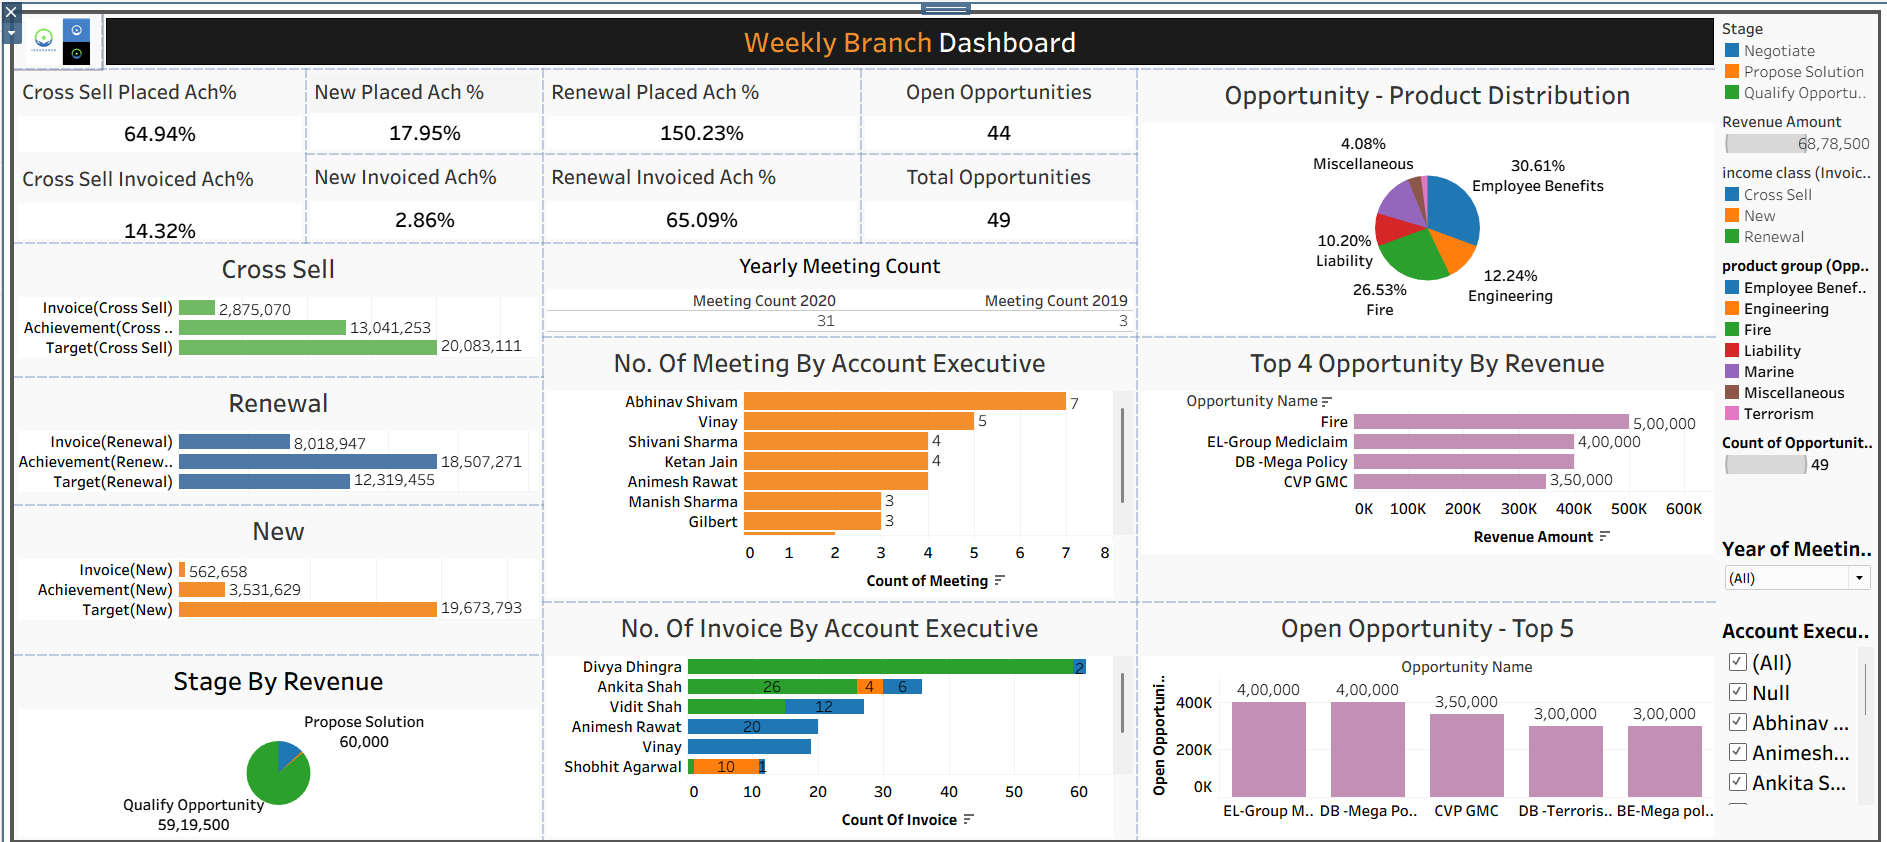

This screenshot's page, from the dashboard's own definition file:
{"tool":"tableau","page":{"name":"Dashboard","canvas":[1000,1000],"units":"permille","ordinal":0},"visuals":[{"type":"image","param":"Image/Insurance analytics logo image for power bi.jpg","box":[6.4,14.1,46.8,65.1]},{"type":"text","box":[53.2,14.1,855.7,65.1]},{"type":"legend","title":"Stage By Revenue","param":"[federated.10g9q8m10ab5l91crr0i01jqzbwv].[none:stage:nk]","box":[908.9,14.1,84.8,109.3]},{"type":"worksheet","title":"KPI 2","mark":"Automatic","box":[6.4,79.2,154.7,101.8]},{"type":"worksheet","title":"KPI 4","mark":"Automatic","box":[161.1,79.2,125.5,99.4]},{"type":"worksheet","title":"KPI 6","mark":"Automatic","box":[286.6,79.2,168.3,98.9]},{"type":"worksheet","title":"KPI 8","mark":"Automatic","box":[454.9,79.2,146.4,98.9]},{"type":"worksheet","title":"product - opportunity distribution","mark":"Pie","box":[601.3,79.2,307.6,314.4]},{"type":"legend","title":"Stage By Revenue","param":"[federated.10g9q8m10ab5l91crr0i01jqzbwv].[sum:revenue_amount:qk]","box":[908.9,123.4,84.8,59.9]},{"type":"worksheet","title":"KPI 5","mark":"Automatic","box":[286.6,178.1,168.3,105.1]},{"type":"worksheet","title":"KPI 7","mark":"Automatic","box":[454.9,178.1,146.4,105.1]},{"type":"worksheet","title":"KPI 3","mark":"Automatic","box":[161.1,178.6,125.5,104.3]},{"type":"worksheet","title":"KPI 1","mark":"Automatic","box":[6.4,181,154.7,101.8]},{"type":"legend","title":"No. Of Invoice By Acc. Exec.","param":"[federated.10g9q8m10ab5l91crr0i01jqzbwv].[none:income_class (Invoice Table):nk]","box":[908.9,183.3,84.8,109.3]},{"type":"worksheet","title":"Cross Sell","mark":"Automatic","box":[6.4,282.9,280.2,157.7]},{"type":"worksheet","title":"Meeting Count Table","mark":"Automatic","box":[286.6,283.2,314.7,110.5]},{"type":"legend","title":"product - opportunity distribution","param":"[federated.10g9q8m10ab5l91crr0i01jqzbwv].[none:product_group (Opportunity Table)","box":[908.9,292.6,84.8,208]},{"type":"worksheet","title":"No. Of Meeting By Acc. Exec.","mark":"Bar","rows":["Account Executive (Meeting Table)"],"cols":["Meeting Table_B8245D37BA304EFFB3E049E0ADF9862E"],"box":[286.6,393.6,314.7,311.7]},{"type":"worksheet","title":"Top 4 Opportunity By Revenue","mark":"Automatic","rows":["opportunity_name"],"cols":["revenue_amount"],"box":[601.3,393.6,307.6,311.7]},{"type":"worksheet","title":"Renewal","mark":"Automatic","box":[6.4,440.6,280.2,150.7]},{"type":"legend","title":"product - opportunity distribution","param":"[federated.10g9q8m10ab5l91crr0i01jqzbwv].[__tableau_internal_object_id__].[cnt:O","box":[908.9,500.6,84.8,119.9]},{"type":"worksheet","title":"New","mark":"Automatic","box":[6.4,591.3,280.2,175.7]},{"type":"filter","title":"KPI 1","param":"[federated.10g9q8m10ab5l91crr0i01jqzbwv].[yr:meeting_date:ok]","box":[908.9,620.4,84.8,96.4]},{"type":"worksheet","title":"No. Of Invoice By Acc. Exec.","mark":"Automatic","rows":["Account Executive (Invoice Table)"],"cols":["Invoice Table_D2A3E5486BC2402182E9F666247D31F4"],"box":[286.6,705.3,314.7,280.6]},{"type":"worksheet","title":"Open Opportunity - Top 5","mark":"Automatic","rows":["Calculation_1199324840906752"],"cols":["opportunity_name"],"box":[601.3,705.3,307.6,280.6]},{"type":"filter","title":"KPI 1","param":"[federated.10g9q8m10ab5l91crr0i01jqzbwv].[none:Account Executive:nk]","box":[908.9,716.8,84.8,231.5]},{"type":"worksheet","title":"Stage By Revenue","mark":"Pie","box":[6.4,767,280.2,218.9]}]}

Visuals, with their boxes on the dashboard's canvas, which has no fixed pixel size, in thousandths of its width and height (x1, y1, x2, y2). These are canvas units, not pixel positions in the 1887x842 screenshot, which may show the page scaled, cropped or inside an application window:
image: locate(6, 14, 53, 79)
text: locate(53, 14, 909, 79)
"Stage By Revenue" legend: locate(909, 14, 994, 123)
"KPI 2" worksheet: locate(6, 79, 161, 181)
"KPI 4" worksheet: locate(161, 79, 287, 179)
"KPI 6" worksheet: locate(287, 79, 455, 178)
"KPI 8" worksheet: locate(455, 79, 601, 178)
"product - opportunity distribution" worksheet (Pie marks): locate(601, 79, 909, 394)
"Stage By Revenue" legend: locate(909, 123, 994, 183)
"KPI 5" worksheet: locate(287, 178, 455, 283)
"KPI 7" worksheet: locate(455, 178, 601, 283)
"KPI 3" worksheet: locate(161, 179, 287, 283)
"KPI 1" worksheet: locate(6, 181, 161, 283)
"No. Of Invoice By Acc. Exec." legend: locate(909, 183, 994, 293)
"Cross Sell" worksheet: locate(6, 283, 287, 441)
"Meeting Count Table" worksheet: locate(287, 283, 601, 394)
"product - opportunity distribution" legend: locate(909, 293, 994, 501)
"No. Of Meeting By Acc. Exec." worksheet (Bar marks): locate(287, 394, 601, 705)
"Top 4 Opportunity By Revenue" worksheet: locate(601, 394, 909, 705)
"Renewal" worksheet: locate(6, 441, 287, 591)
"product - opportunity distribution" legend: locate(909, 501, 994, 620)
"New" worksheet: locate(6, 591, 287, 767)
"KPI 1" filter: locate(909, 620, 994, 717)
"No. Of Invoice By Acc. Exec." worksheet: locate(287, 705, 601, 986)
"Open Opportunity - Top 5" worksheet: locate(601, 705, 909, 986)
"KPI 1" filter: locate(909, 717, 994, 948)
"Stage By Revenue" worksheet (Pie marks): locate(6, 767, 287, 986)
